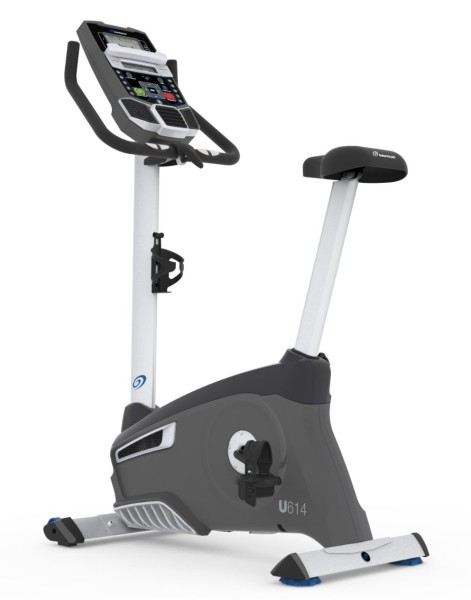gym_bike: (40, 17, 429, 580)
